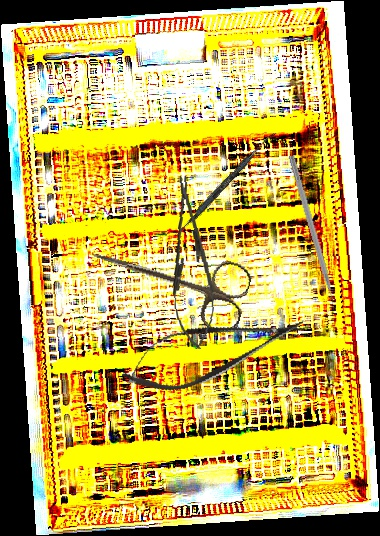Chopper: (280, 155, 339, 314)
Iris Scissors: (82, 224, 255, 336)
Micro Scissor: (114, 296, 314, 405)
Needle Holder: (161, 173, 221, 352)
Spatula Surgical: (173, 127, 277, 241)
